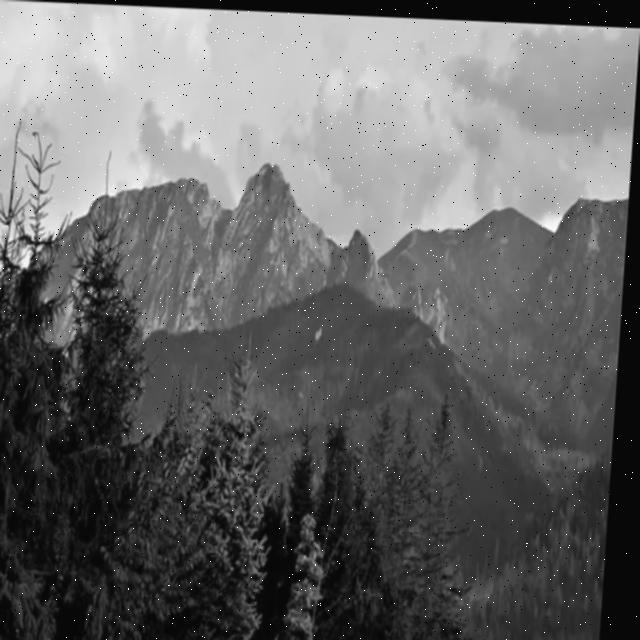Giewont: (211, 93, 329, 243)
Kopa Kondracka: (380, 177, 457, 282)
Malolaczniak: (444, 133, 563, 286)
Maly giewont: (319, 170, 396, 294)
